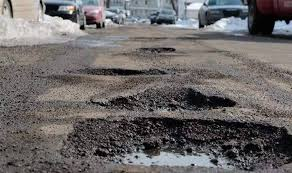potholes: (53, 52, 285, 173), (33, 29, 244, 117), (70, 40, 292, 116)
